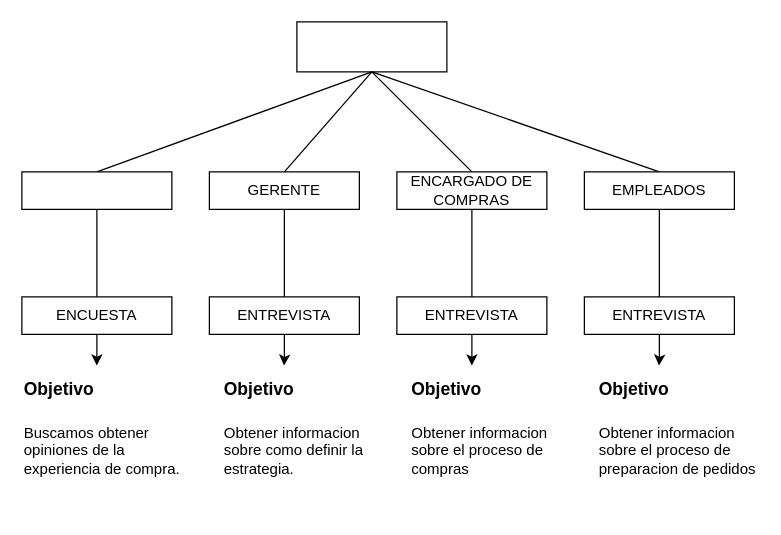
The diagram is 781 pixels wide and 535 high, and some of its shapes have lost their labels. Here are the shapes that lost their labels. From the top down, the box of each, then its label:
(296, 21, 447, 72): ELICITACIÓN
(21, 171, 172, 209): CLIENTES
